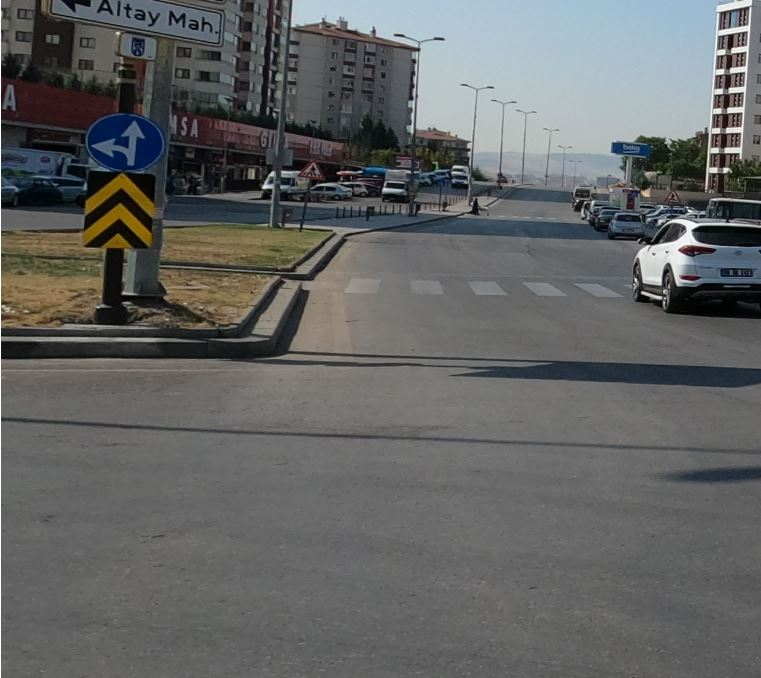ileri ve Sola Mecburi Don: (85, 102, 168, 174)
